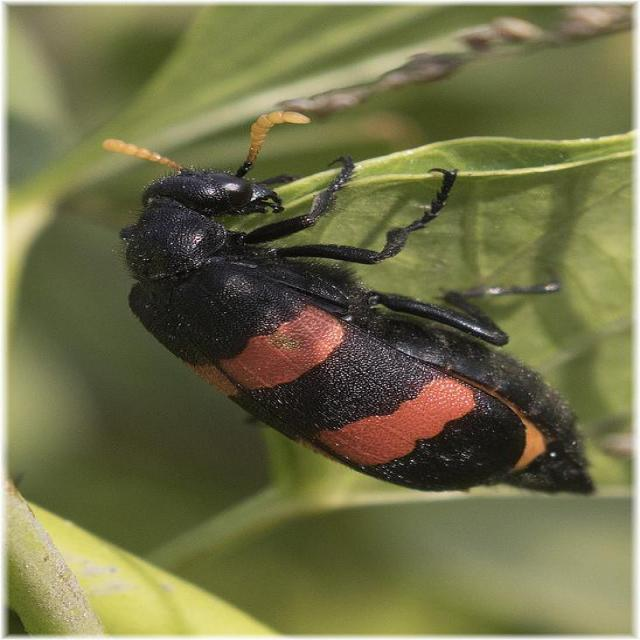BlisterBeetle-Adult-: (66, 99, 610, 508)
